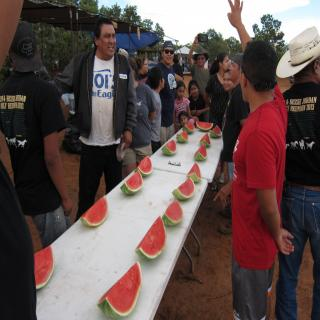Watermelon: (96, 261, 144, 319), (136, 217, 167, 260), (33, 245, 55, 288), (80, 194, 108, 227), (120, 170, 142, 195), (162, 199, 182, 226), (171, 178, 194, 200), (134, 156, 152, 176), (187, 162, 201, 183), (161, 139, 177, 156), (194, 144, 206, 161), (196, 121, 213, 132), (200, 132, 211, 146), (176, 130, 188, 142), (182, 123, 195, 134), (210, 125, 220, 139)
